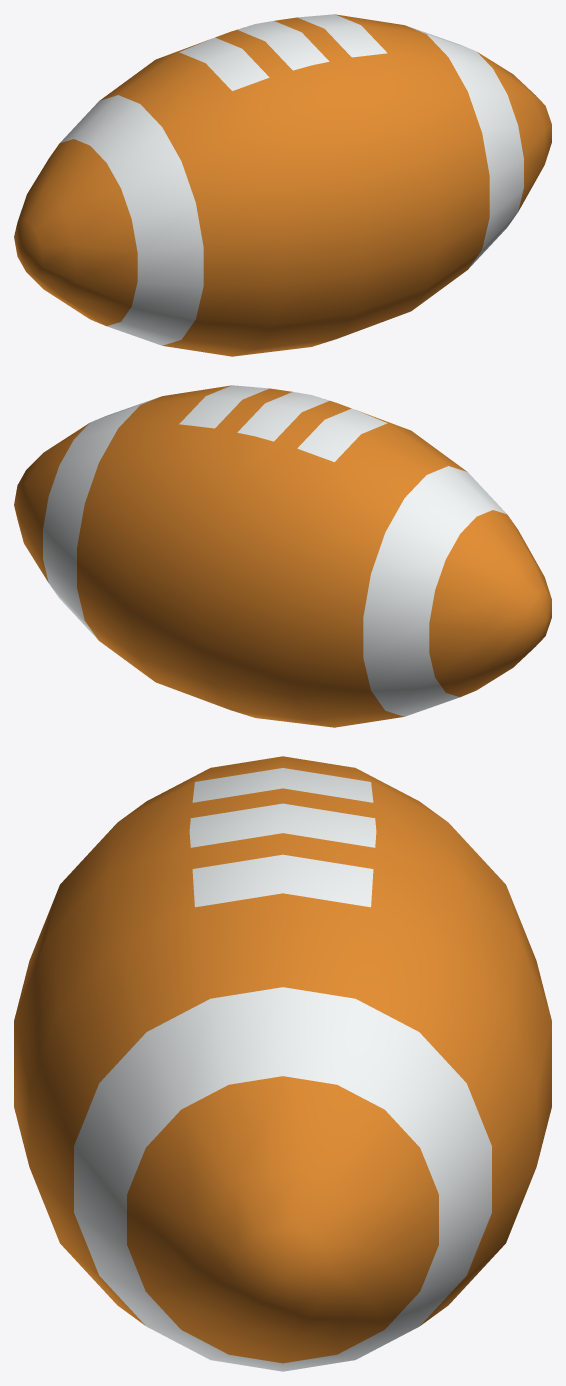
File: rugby_ball_01.FBX
The picture shows the model from 3 angles, top to bottom: view 1: azimuth 30°, elevation 25°; view 2: azimuth 150°, elevation 25°; view 3: azimuth 270°, elevation 25°; orthographic projection. The views are drawn at different scales.
Parts seen in each view (by area): view 1: rugby_ball_01; view 2: rugby_ball_01; view 3: rugby_ball_01.
Boxes of the visible parts, x1=… form: rugby_ball_01: x1=14, y1=14, x2=551, y2=356; rugby_ball_01: x1=14, y1=385, x2=551, y2=727; rugby_ball_01: x1=14, y1=756, x2=551, y2=1371.
Size of the model in its own units: 118 by 63.2 by 64.18.
1 material, 1 textured.
